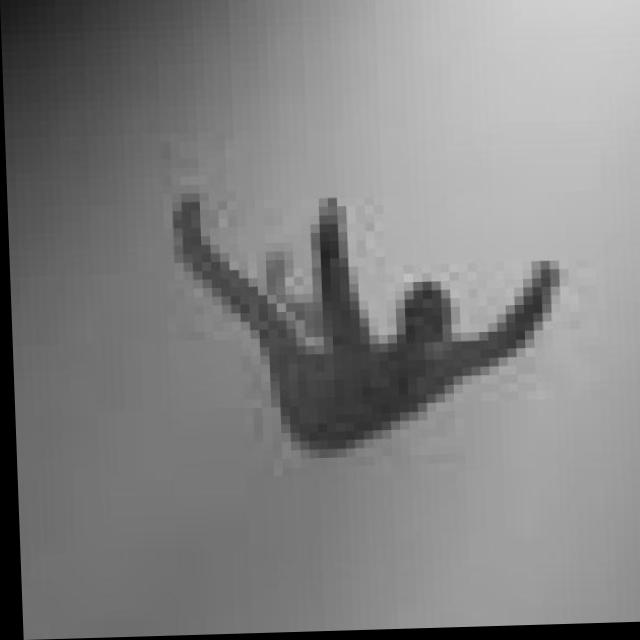fall: (175, 187, 563, 464)
